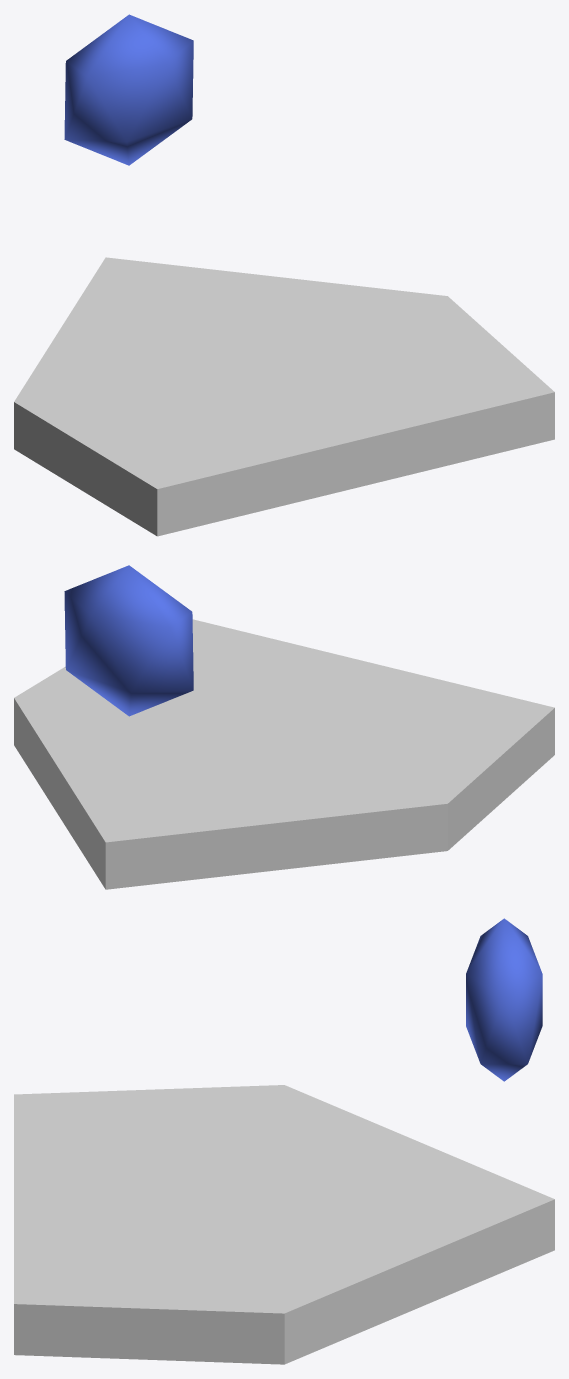
The model's file is sorcerer_emblem.glb.
The picture shows the model from 3 angles, top to bottom: view 1: azimuth 30°, elevation 25°; view 2: azimuth 150°, elevation 25°; view 3: azimuth 270°, elevation 25°; orthographic projection. The views are drawn at different scales.
Parts seen in each view (by area): view 1: sorcerer_sigil_v0; view 2: sorcerer_sigil_v0; view 3: sorcerer_sigil_v0.
Boxes of the visible parts, <box> form: sorcerer_sigil_v0: <box>14,14,554,536</box>; sorcerer_sigil_v0: <box>14,565,554,889</box>; sorcerer_sigil_v0: <box>14,918,554,1364</box>.
Size of the model in its own units: 0.24 by 0.1625 by 0.24.
